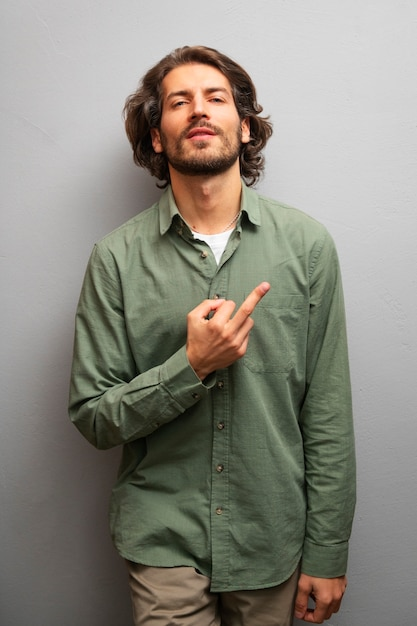insulting_gesture: (184, 279, 271, 379)
